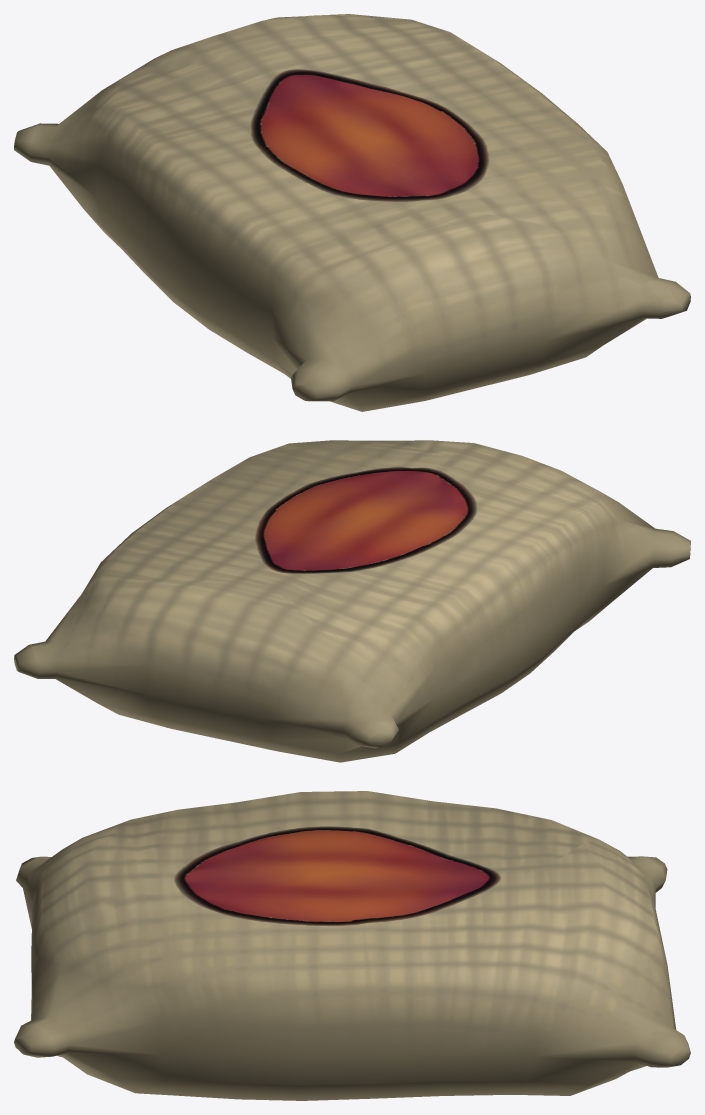
File: Model_TexturaSacoQuadradoCacau_v1.fbx
3 renders of one model, top to bottom at view 1: azimuth 30°, elevation 25°; view 2: azimuth 150°, elevation 25°; view 3: azimuth 270°, elevation 25°, orthographic. The views are drawn at different scales.
Parts seen in each view (by area): view 1: Plane.003; view 2: Plane.003; view 3: Plane.003.
Boxes of the visible parts, left/top/right/bottom form: Plane.003: left=14, top=14, right=690, bottom=411; Plane.003: left=14, top=440, right=690, bottom=762; Plane.003: left=14, top=791, right=690, bottom=1100.
Size of the model in its own units: 246 by 86.33 by 337.
